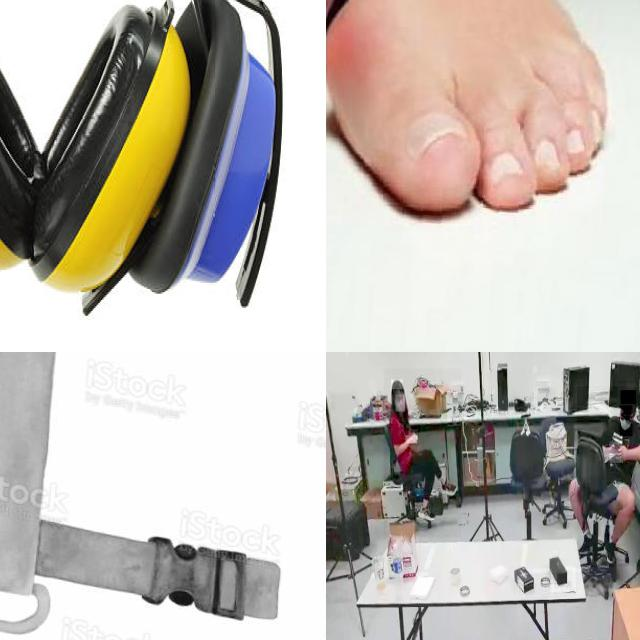Barefoots: (326, 0, 608, 212)
Ear-protection: (0, 0, 288, 324), (0, 0, 208, 283)
Harness: (0, 352, 282, 636)
face_mask: (620, 406, 632, 436)
face_nomask: (396, 394, 406, 412)
hand_noglove: (610, 442, 622, 464), (615, 444, 627, 462), (406, 436, 418, 444), (411, 429, 418, 440)
head_nohelmet: (620, 390, 636, 405), (391, 380, 403, 390)
person: (384, 368, 462, 538), (576, 386, 640, 567)
shoes: (600, 535, 618, 568), (576, 529, 596, 558), (437, 472, 458, 498), (418, 500, 436, 526)
